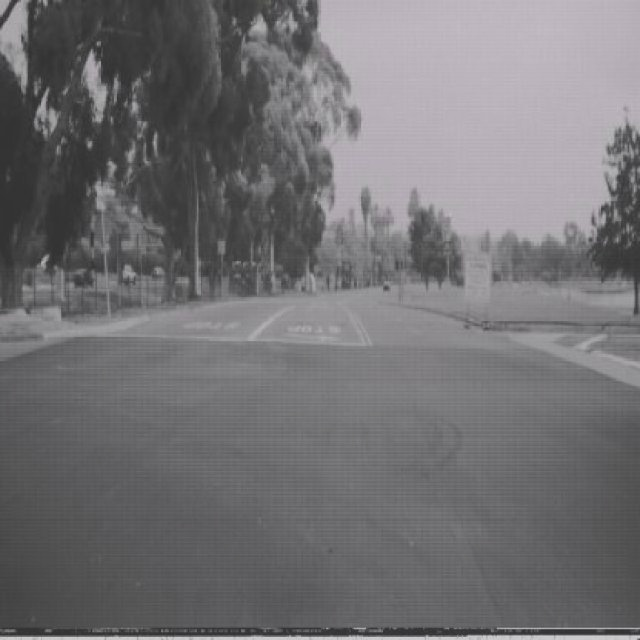speedLimit30: (440, 214, 452, 241)
